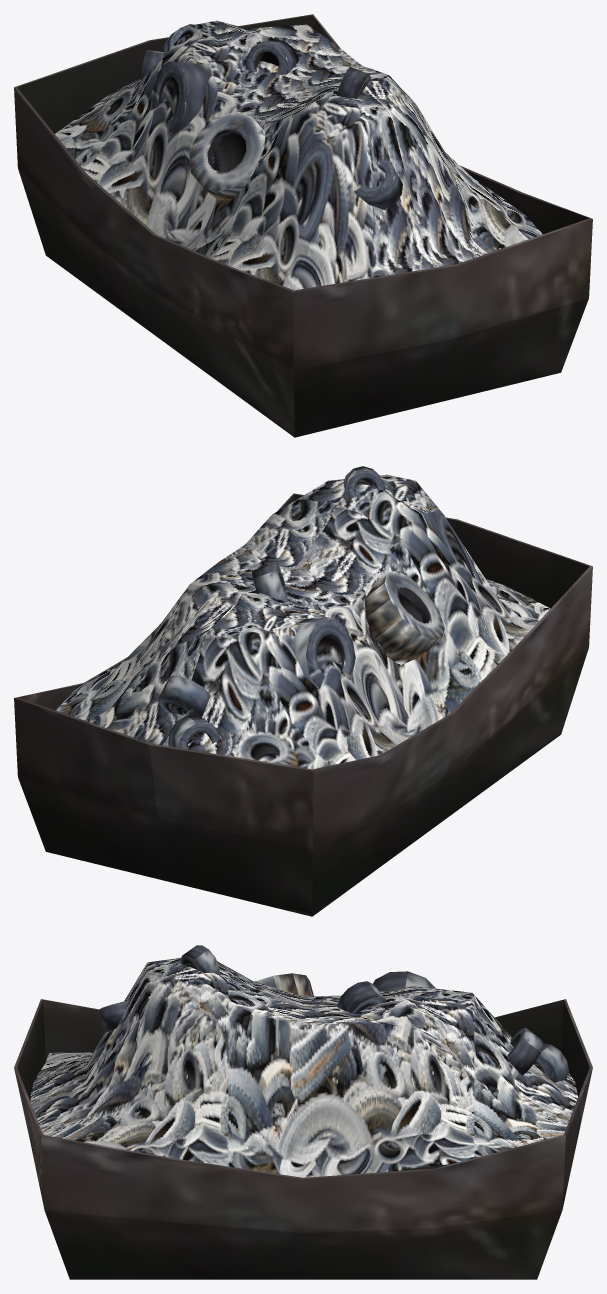
The model's file is tire_dumpster.glb.
The picture shows the model from 3 angles, top to bottom: view 1: azimuth 30°, elevation 25°; view 2: azimuth 150°, elevation 25°; view 3: azimuth 270°, elevation 25°; orthographic projection. The views are drawn at different scales.
Visible parts, largest first — view 1: EnginesMetalCasing.002, Engines.002, Cylinder, Cylinder.001, Cylinder.004, Cylinder.003, Cylinder.002; view 2: EnginesMetalCasing.002, Engines.002, Cylinder, Cylinder.001, Cylinder.005, Cylinder.006, Cylinder.004, Cylinder.002; view 3: Engines.002, EnginesMetalCasing.002, Cylinder.005, Cylinder.004, Cylinder.006, Cylinder.001, Cylinder, Cylinder.002, Cylinder.003.
Part boxes in pixels (x1=…): EnginesMetalCasing.002: x1=14, y1=14, x2=592, y2=437; Engines.002: x1=55, y1=20, x2=542, y2=290; Cylinder: x1=189, y1=112, x2=265, y2=200; Cylinder.001: x1=150, y1=61, x2=211, y2=135; Cylinder.004: x1=245, y1=40, x2=298, y2=74; Cylinder.003: x1=354, y1=159, x2=402, y2=210; Cylinder.002: x1=336, y1=67, x2=370, y2=98; EnginesMetalCasing.002: x1=14, y1=493, x2=592, y2=916; Engines.002: x1=56, y1=474, x2=550, y2=769; Cylinder: x1=365, y1=570, x2=444, y2=664; Cylinder.001: x1=295, y1=617, x2=355, y2=689; Cylinder.005: x1=157, y1=675, x2=210, y2=717; Cylinder.006: x1=168, y1=715, x2=221, y2=749; Cylinder.004: x1=251, y1=563, x2=287, y2=602; Cylinder.002: x1=343, y1=466, x2=385, y2=498; Engines.002: x1=30, y1=958, x2=577, y2=1177; EnginesMetalCasing.002: x1=14, y1=999, x2=592, y2=1279; Cylinder.005: x1=507, y1=1027, x2=544, y2=1075; Cylinder.004: x1=337, y1=981, x2=386, y2=1013; Cylinder.006: x1=533, y1=1043, x2=568, y2=1082; Cylinder.001: x1=373, y1=971, x2=435, y2=991; Cylinder: x1=255, y1=973, x2=313, y2=996; Cylinder.002: x1=180, y1=945, x2=219, y2=972; Cylinder.003: x1=99, y1=1000, x2=129, y2=1033.
Bounding box in the file's own units: 15.58 × 14.25 × 27.8.
Materials: 2 (2 with a texture image).
